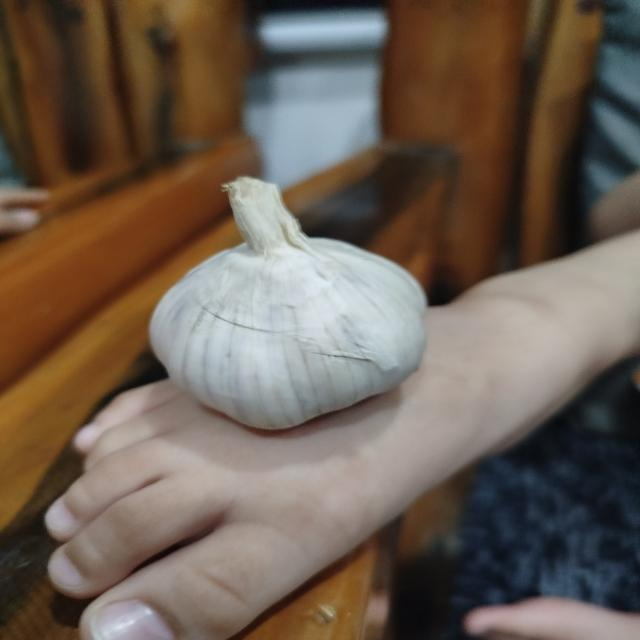garlic: (147, 175, 429, 431)
